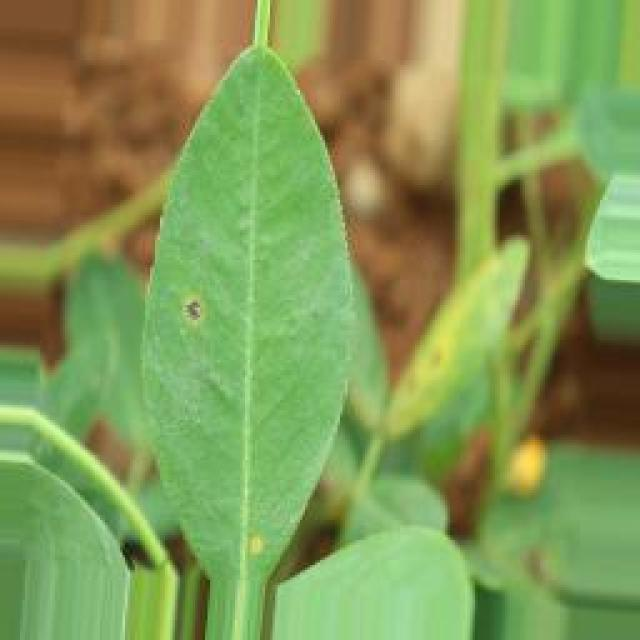Sigatoka: (149, 274, 229, 358)
